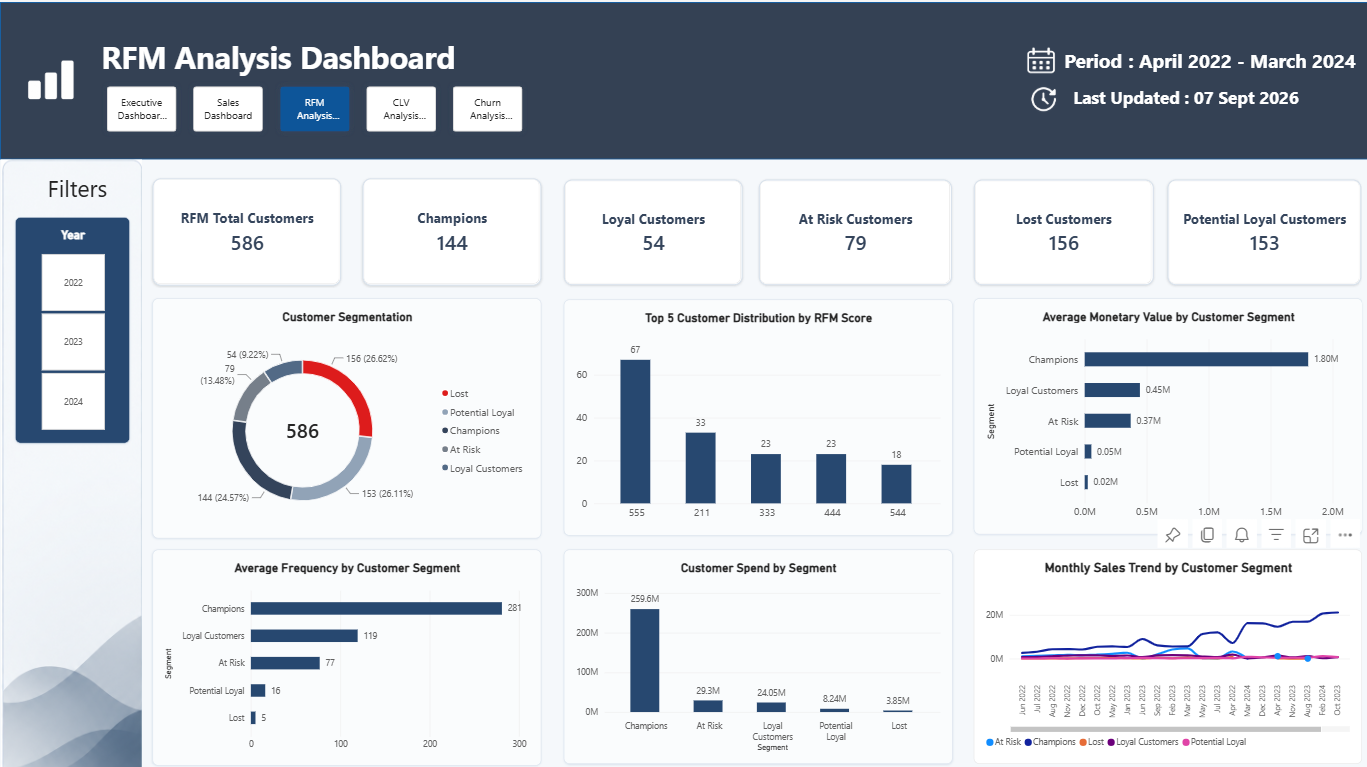

What the dashboard file says about the page in this screenshot:
{"tool":"powerbi","page":{"name":"RFM Analysis Dashboard","canvas":[1920,1080],"ordinal":2},"visuals":[{"type":"shape","box":[0,0,1920.4,220.2],"z":0},{"type":"textbox","box":[142,48,616,70],"z":1000},{"type":"image","box":[0,220,200,860],"z":2000},{"type":"cardVisual","fields":{"Data":["RFMTable.RFM Total_Customers"]},"box":[214,246,264,150],"z":3000},{"type":"cardVisual","fields":{"Data":["RFMTable.Champions"]},"box":[508,246,250,150],"z":4000},{"type":"cardVisual","fields":{"Data":["RFMTable.At Risk Customers"]},"box":[1061.7,248.3,270,148.3],"z":5000},{"type":"cardVisual","fields":{"Data":["RFMTable.Lost Customers"]},"box":[1361.7,248.3,251.7,148.3],"z":6000},{"type":"cardVisual","fields":{"Data":["RFMTable.Loyal Customers"]},"box":[788,248,250,148],"z":7000},{"type":"donutChart","title":"Customer Segmentation","fields":{"Category":["RFMTable.Segment"],"Y":["CountNonNull(RFMTable.Customer Name)"]},"box":[214,414,544,336],"z":8000},{"type":"clusteredColumnChart","title":"Top 5 Customer Distribution by RFM Score","fields":{"Category":["RFMTable.RFM Score"],"Y":["CountNonNull(RFMTable.Customer Name)"]},"box":[788,416,544,330],"z":9000},{"type":"clusteredBarChart","title":"Average Monetary Value by Customer Segment","fields":{"Category":["RFMTable.Segment"],"Y":["Avg(RFMTable.Monetary)"]},"box":[1362,414,544,330],"z":10000},{"type":"clusteredBarChart","title":"Average Frequency by Customer Segment","fields":{"Category":["RFMTable.Segment"],"Y":["RFMTable.Avg Frequency"]},"box":[214,766,544,302],"z":11000},{"type":"clusteredColumnChart","title":"Customer Spend by Segment","fields":{"Category":["RFMTable.Segment"],"Y":["RFMTable.RFM Total Monetary"]},"box":[788,766,544,300],"z":12000},{"type":"cardVisual","fields":{"Data":["RFMTable.Potential Loyal Customers"]},"box":[1634.1,247.9,271.4,148.4],"z":13000},{"type":"textbox","box":[22,238,140,44],"z":14000},{"type":"slicer","title":"Year","fields":{"Values":["RFMTable.RFM Year"]},"box":[21.7,300.4,161.1,316.7],"z":15000},{"type":"image","box":[1416,48,80,70],"z":16000},{"type":"textbox","box":[1474,58,432,52],"z":17000},{"type":"image","box":[0,30,142,160],"z":18000},{"type":"textbox","box":[1496,118,362,44],"z":19000},{"type":"image","box":[1426,110,70,52],"z":20000},{"type":"lineChart","title":"Monthly Sales Trend by Customer Segment","fields":{"Category":["Sheet1.Month Year"],"Series":["RFMTable.Segment"],"Y":["Sheet1.Total Sales"]},"box":[1361.7,766.7,543.3,300],"z":21000},{"type":"pageNavigator","box":[141.2,110.4,599,79.6],"z":22000}]}

Visuals, with their boxes in screenshot pixels (x1, y1, x2, y2), scaled from the page's 1920x1080 canvas onto the 1367x767 screenshot:
shape: x1=0 y1=0 x2=1366 y2=156
textbox: x1=101 y1=34 x2=540 y2=84
image: x1=0 y1=156 x2=142 y2=766
cardVisual - RFMTable.RFM Total_Customers: x1=152 y1=175 x2=340 y2=281
cardVisual - RFMTable.Champions: x1=362 y1=175 x2=540 y2=281
cardVisual - RFMTable.At Risk Customers: x1=756 y1=176 x2=948 y2=282
cardVisual - RFMTable.Lost Customers: x1=970 y1=176 x2=1149 y2=282
cardVisual - RFMTable.Loyal Customers: x1=561 y1=176 x2=739 y2=281
"Customer Segmentation" donutChart: x1=152 y1=294 x2=540 y2=533
"Top 5 Customer Distribution by RFM Score" clusteredColumnChart: x1=561 y1=295 x2=948 y2=530
"Average Monetary Value by Customer Segment" clusteredBarChart: x1=970 y1=294 x2=1357 y2=528
"Average Frequency by Customer Segment" clusteredBarChart: x1=152 y1=544 x2=540 y2=758
"Customer Spend by Segment" clusteredColumnChart: x1=561 y1=544 x2=948 y2=757
cardVisual - RFMTable.Potential Loyal Customers: x1=1163 y1=176 x2=1357 y2=281
textbox: x1=16 y1=169 x2=115 y2=200
"Year" slicer: x1=15 y1=213 x2=130 y2=438
image: x1=1008 y1=34 x2=1065 y2=84
textbox: x1=1049 y1=41 x2=1357 y2=78
image: x1=0 y1=21 x2=101 y2=135
textbox: x1=1065 y1=84 x2=1323 y2=115
image: x1=1015 y1=78 x2=1065 y2=115
"Monthly Sales Trend by Customer Segment" lineChart: x1=970 y1=544 x2=1356 y2=758
pageNavigator: x1=101 y1=78 x2=527 y2=135
